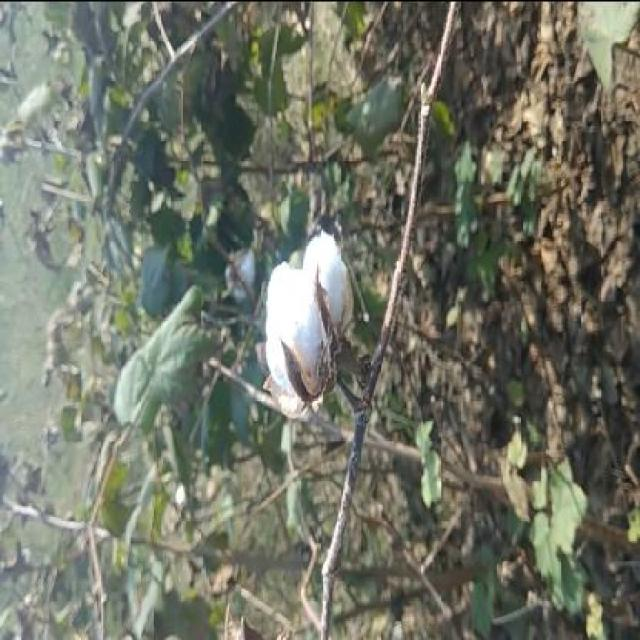cotton_ready: (252, 202, 378, 432)
